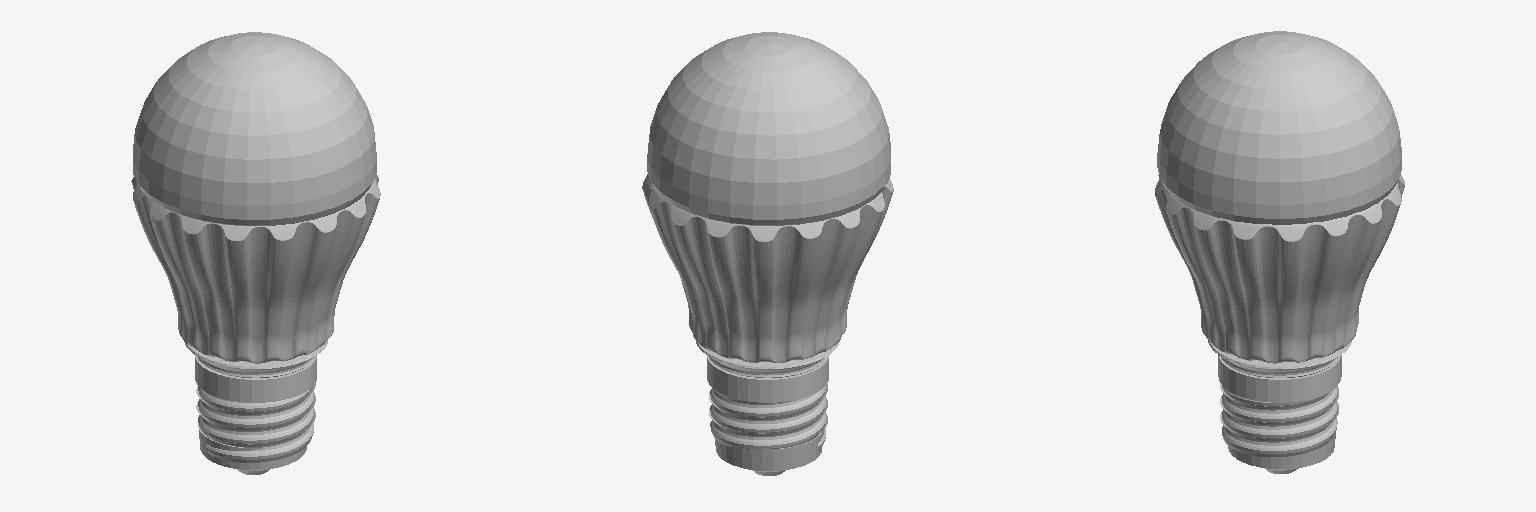
Rendered from KORTE.obj.
3 views of the same model, side by side, from view 1: azimuth 30°, elevation 25°; view 2: azimuth 150°, elevation 25°; view 3: azimuth 270°, elevation 25° (orthographic).
Visible parts, largest first — view 1: Sphere, Cylinder, Plane, Cylinder.002, Cylinder.001, Cylinder.003; view 2: Sphere, Cylinder, Plane, Cylinder.002, Cylinder.003, Cylinder.001; view 3: Sphere, Cylinder, Plane, Cylinder.002, Cylinder.001, Cylinder.003.
Part boxes in pixels (left/top/right/bottom): Sphere: left=133, top=32, right=376, bottom=225; Cylinder: left=131, top=173, right=380, bottom=363; Plane: left=196, top=383, right=315, bottom=462; Cylinder.002: left=195, top=355, right=316, bottom=402; Cylinder.001: left=184, top=340, right=327, bottom=377; Cylinder.003: left=198, top=423, right=306, bottom=470; Sphere: left=647, top=32, right=890, bottom=225; Cylinder: left=642, top=174, right=893, bottom=362; Plane: left=709, top=384, right=827, bottom=450; Cylinder.002: left=707, top=355, right=828, bottom=402; Cylinder.003: left=715, top=431, right=823, bottom=471; Cylinder.001: left=696, top=341, right=839, bottom=377; Sphere: left=1157, top=31, right=1401, bottom=224; Cylinder: left=1155, top=175, right=1404, bottom=363; Plane: left=1220, top=383, right=1338, bottom=456; Cylinder.002: left=1218, top=355, right=1341, bottom=402; Cylinder.001: left=1208, top=340, right=1351, bottom=377; Cylinder.003: left=1228, top=432, right=1335, bottom=470.
Bounding box in the file's own units: 8.29 × 15.53 × 8.29.